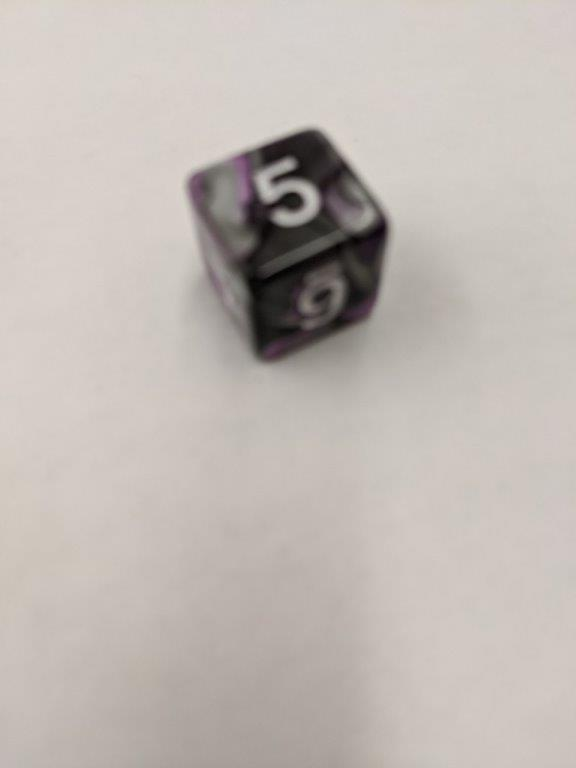d6-5: (187, 124, 389, 363)
